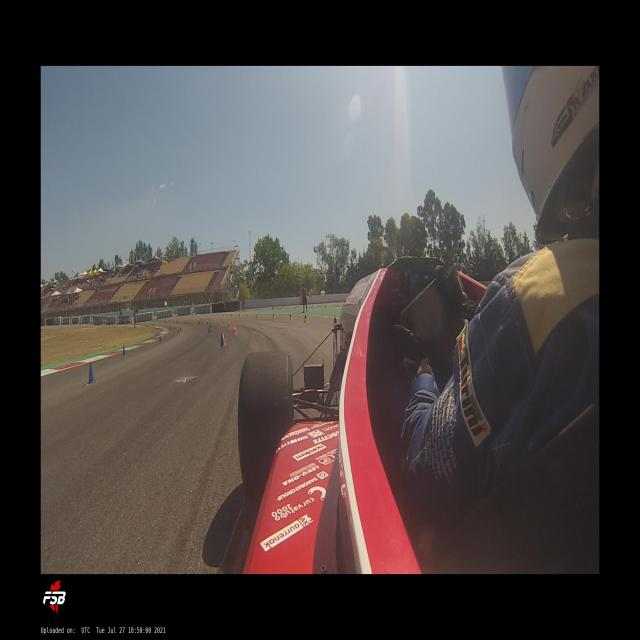orange_cone: (221, 330, 226, 345), (233, 324, 235, 334), (228, 322, 230, 326)
unknown_cone: (88, 362, 96, 383), (220, 333, 224, 347), (122, 345, 126, 356), (159, 335, 162, 342), (208, 327, 211, 334)
yellow_cone: (304, 315, 308, 322), (334, 316, 336, 324), (290, 313, 292, 320), (273, 313, 275, 319), (257, 314, 258, 318)
